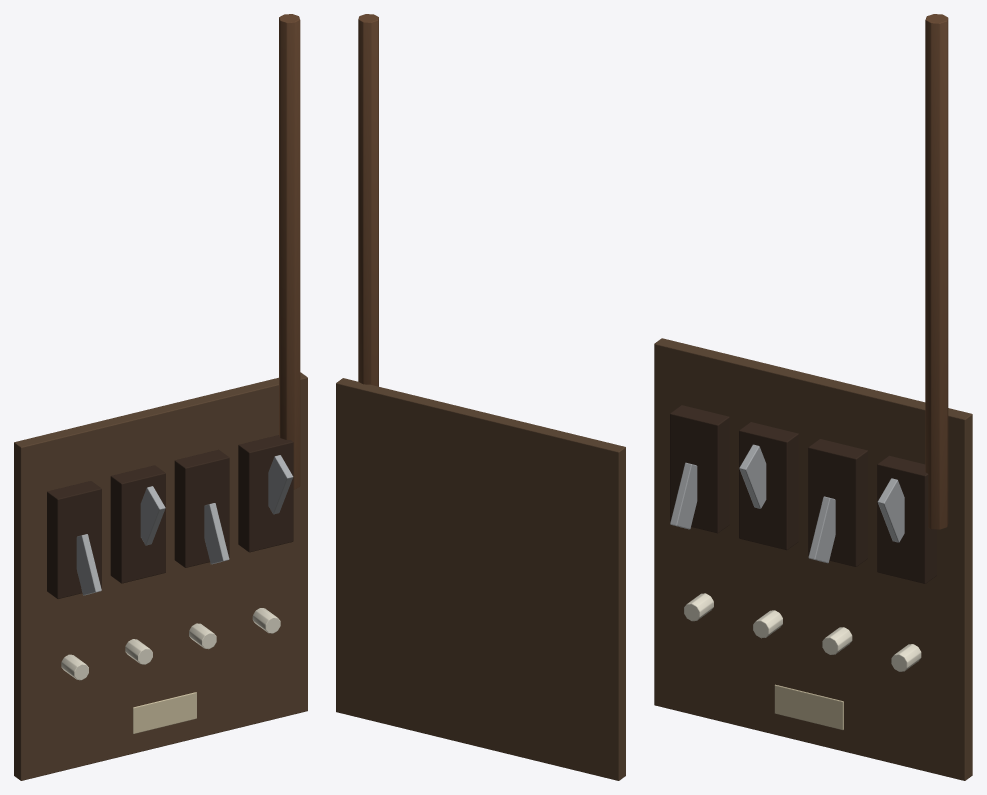
Rendered from PROP_Panel_Fuse_Historic.glb.
The picture shows the model from 3 angles, left to right: view 1: azimuth 30°, elevation 25°; view 2: azimuth 150°, elevation 25°; view 3: azimuth 330°, elevation 25°; orthographic projection. The views are drawn at different scales.
Parts seen in each view (by area): view 1: PROP_Panel_Fuse_Historic_Mesh; view 2: PROP_Panel_Fuse_Historic_Mesh; view 3: PROP_Panel_Fuse_Historic_Mesh.
Boxes of the visible parts, x1,y1,x2,y2 form: PROP_Panel_Fuse_Historic_Mesh: (14,14,307,780); PROP_Panel_Fuse_Historic_Mesh: (336,14,625,780); PROP_Panel_Fuse_Historic_Mesh: (654,14,972,780).
Bounding box in the file's own units: 0.9 × 2.1 × 0.2027.
